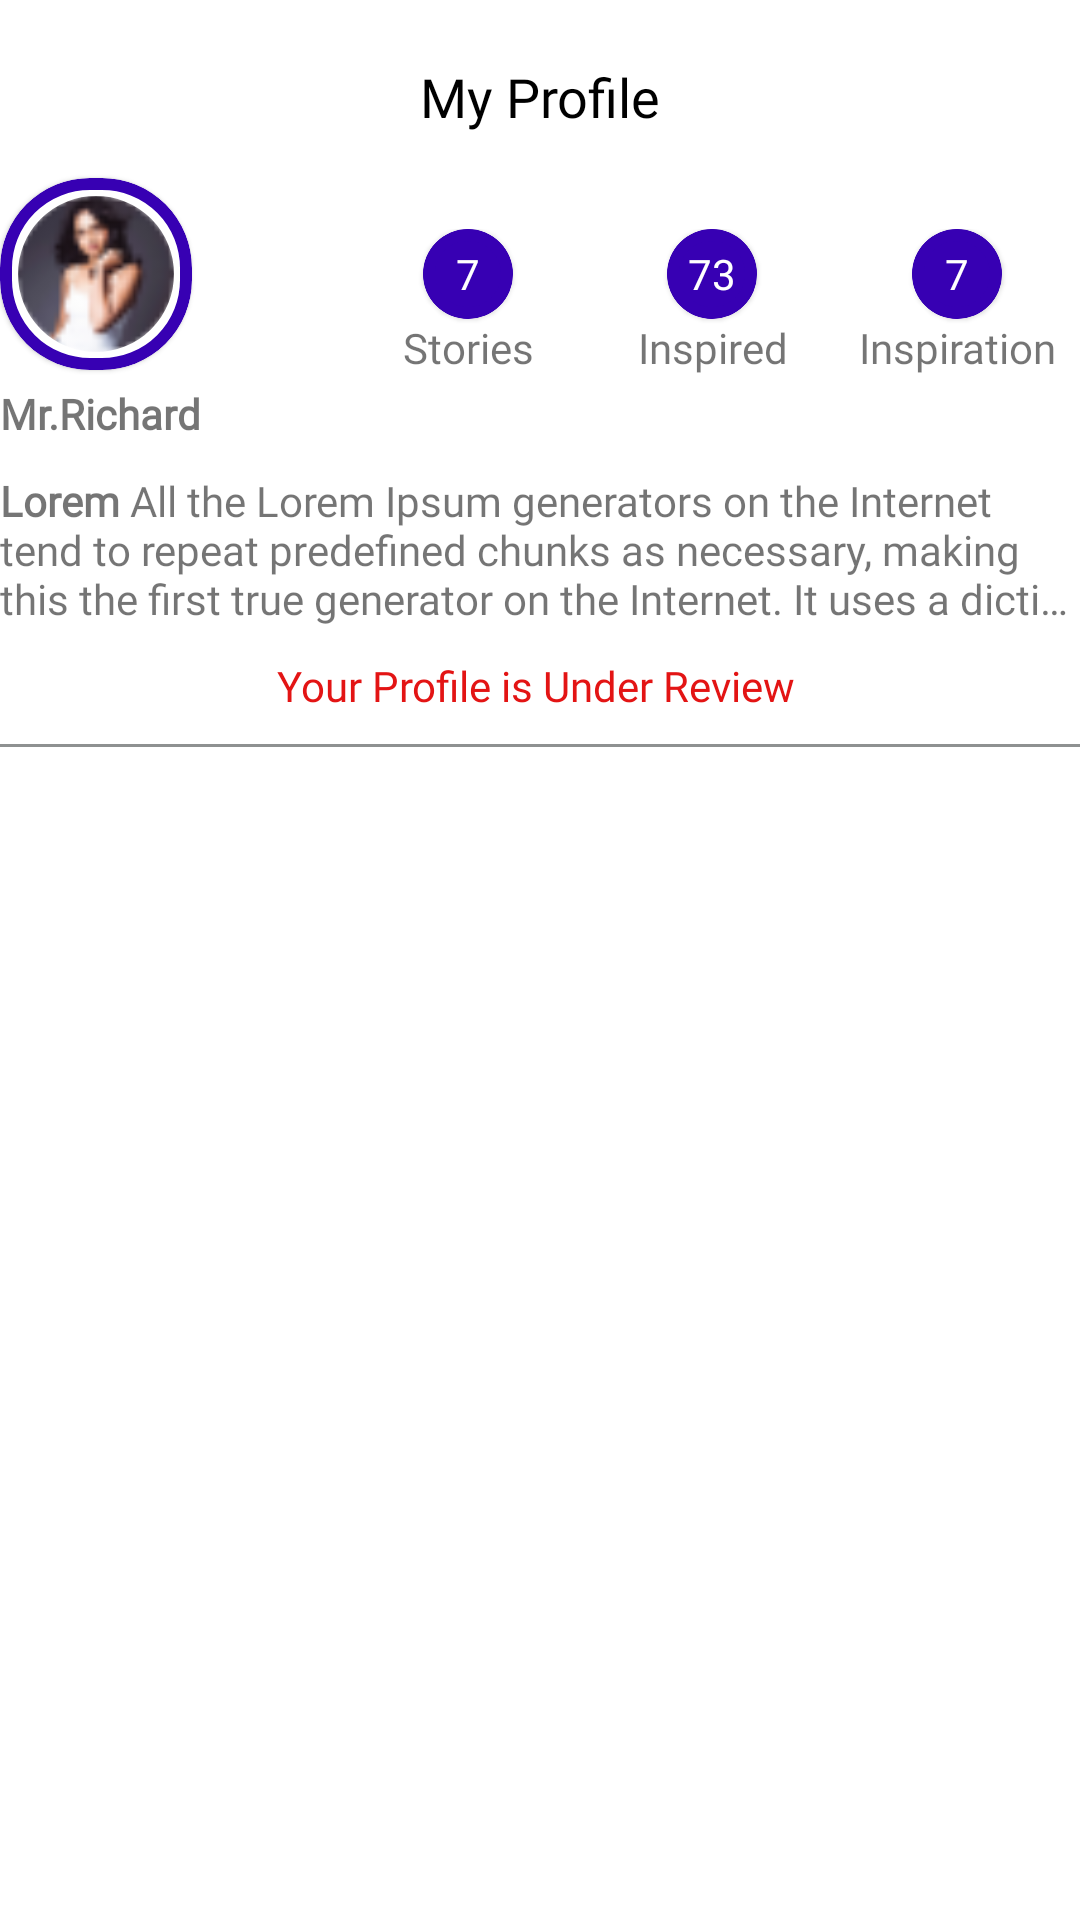

Icon click points for this 1080*1920 phone screenshot, format (x=x, y=y):
girl: (x=96, y=274)
